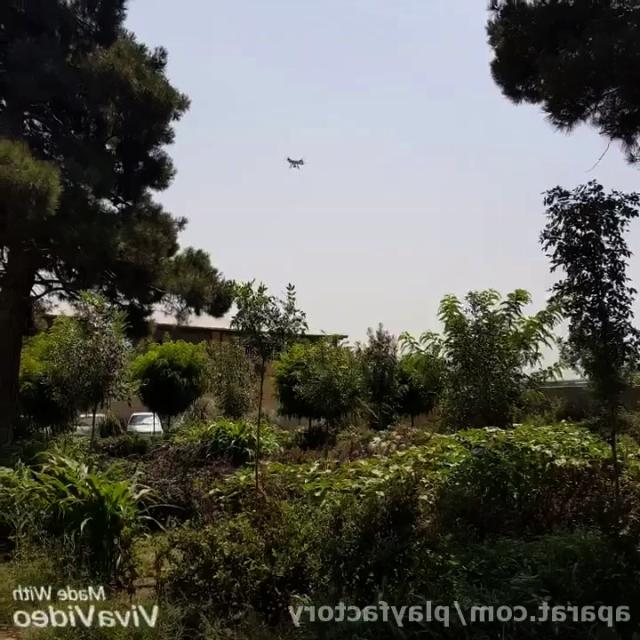drone: (282, 150, 311, 173)
